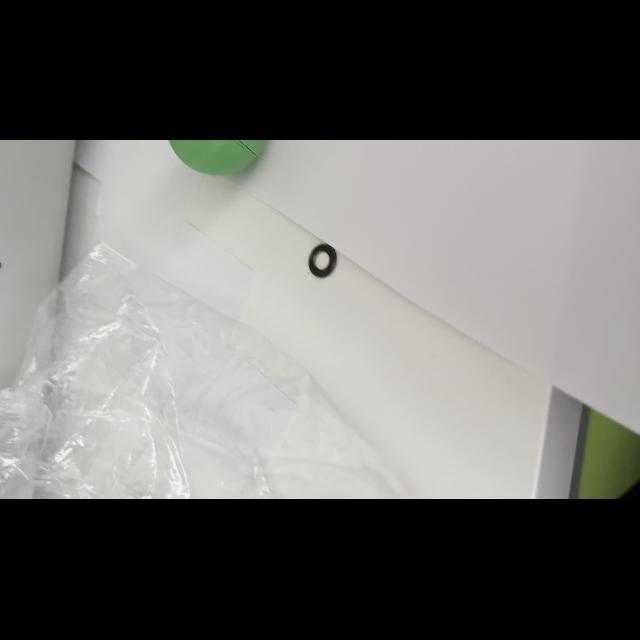objects: (162, 140, 276, 180)
